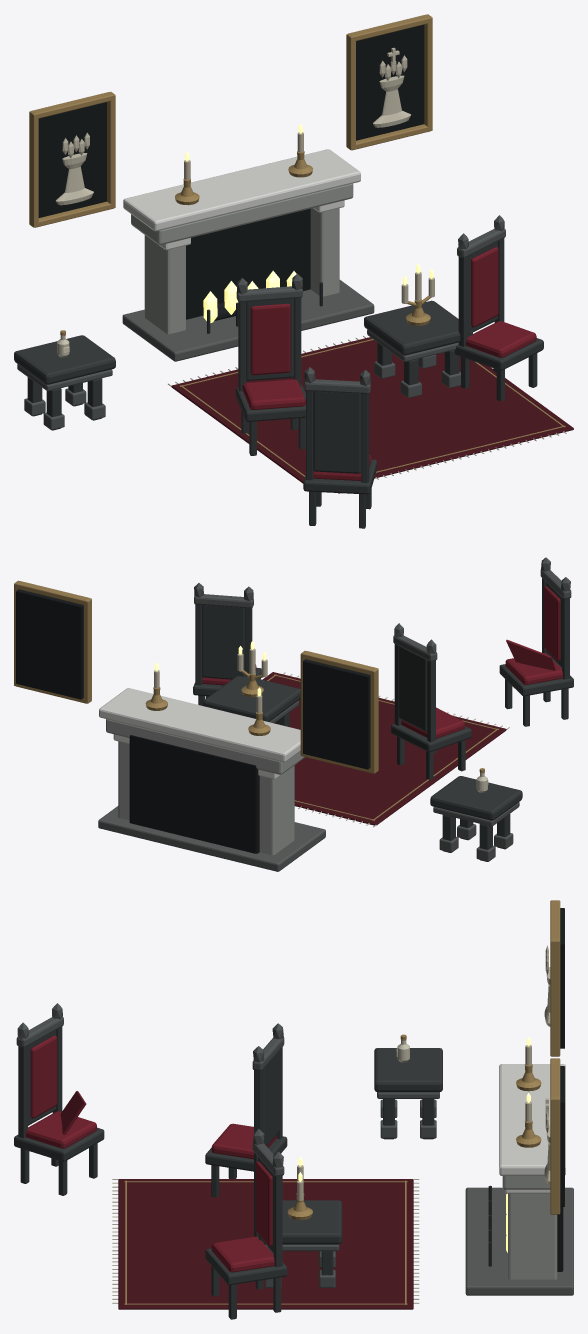
File: ROOM_drawing.glb
The picture shows the model from 3 angles, top to bottom: view 1: azimuth 30°, elevation 25°; view 2: azimuth 150°, elevation 25°; view 3: azimuth 270°, elevation 25°; orthographic projection. The views are drawn at different scales.
Parts seen in each view (by area): view 1: ROOM_drawing__wood, ROOM_drawing__redshadow, ROOM_drawing__coal, ROOM_drawing__brass, ROOM_drawing__stone, ROOM_drawing__wall, ROOM_drawing__red, ROOM_drawing__woodedge, ROOM_drawing__darkstone, ROOM_drawing__edge, ROOM_drawing__fire, ROOM_drawing__wax; view 2: ROOM_drawing__coal, ROOM_drawing__wood, ROOM_drawing__redshadow, ROOM_drawing__wall, ROOM_drawing__stone, ROOM_drawing__brass, ROOM_drawing__woodedge, ROOM_drawing__darkstone, ROOM_drawing__red, ROOM_drawing__wax; view 3: ROOM_drawing__redshadow, ROOM_drawing__wood, ROOM_drawing__red, ROOM_drawing__darkstone, ROOM_drawing__brass, ROOM_drawing__wall, ROOM_drawing__stone, ROOM_drawing__woodedge, ROOM_drawing__coal, ROOM_drawing__edge.
Part boxes in pixels (<box>): ROOM_drawing__wood: <box>14,238,543,528</box>; ROOM_drawing__redshadow: <box>171,337,573,483</box>; ROOM_drawing__coal: <box>38,24,424,320</box>; ROOM_drawing__brass: <box>29,14,565,476</box>; ROOM_drawing__stone: <box>131,183,353,334</box>; ROOM_drawing__wall: <box>123,149,360,250</box>; ROOM_drawing__red: <box>242,247,536,480</box>; ROOM_drawing__woodedge: <box>17,215,505,429</box>; ROOM_drawing__darkstone: <box>122,280,374,361</box>; ROOM_drawing__edge: <box>56,47,566,479</box>; ROOM_drawing__fire: <box>185,123,433,323</box>; ROOM_drawing__wax: <box>184,132,434,303</box>; ROOM_drawing__coal: <box>16,589,370,853</box>; ROOM_drawing__wood: <box>193,578,573,861</box>; ROOM_drawing__redshadow: <box>263,672,506,825</box>; ROOM_drawing__wall: <box>99,688,300,779</box>; ROOM_drawing__stone: <box>106,719,305,855</box>; ROOM_drawing__brass: <box>14,580,498,820</box>; ROOM_drawing__woodedge: <box>194,557,571,861</box>; ROOM_drawing__darkstone: <box>98,806,325,871</box>; ROOM_drawing__red: <box>202,586,562,738</box>; ROOM_drawing__wax: <box>154,648,267,713</box>; ROOM_drawing__redshadow: <box>118,1179,413,1309</box>; ROOM_drawing__wood: <box>14,1027,442,1319</box>; ROOM_drawing__red: <box>26,1035,276,1272</box>; ROOM_drawing__darkstone: <box>465,1187,573,1295</box>; ROOM_drawing__brass: <box>124,900,560,1304</box>; ROOM_drawing__wall: <box>499,1064,565,1193</box>; ROOM_drawing__stone: <box>502,1176,557,1279</box>; ROOM_drawing__woodedge: <box>16,1003,439,1287</box>; ROOM_drawing__coal: <box>557,908,564,1271</box>; ROOM_drawing__edge: <box>112,945,550,1303</box>.
Bounding box in the file's own units: 5.67 × 2.77 × 5.69.
